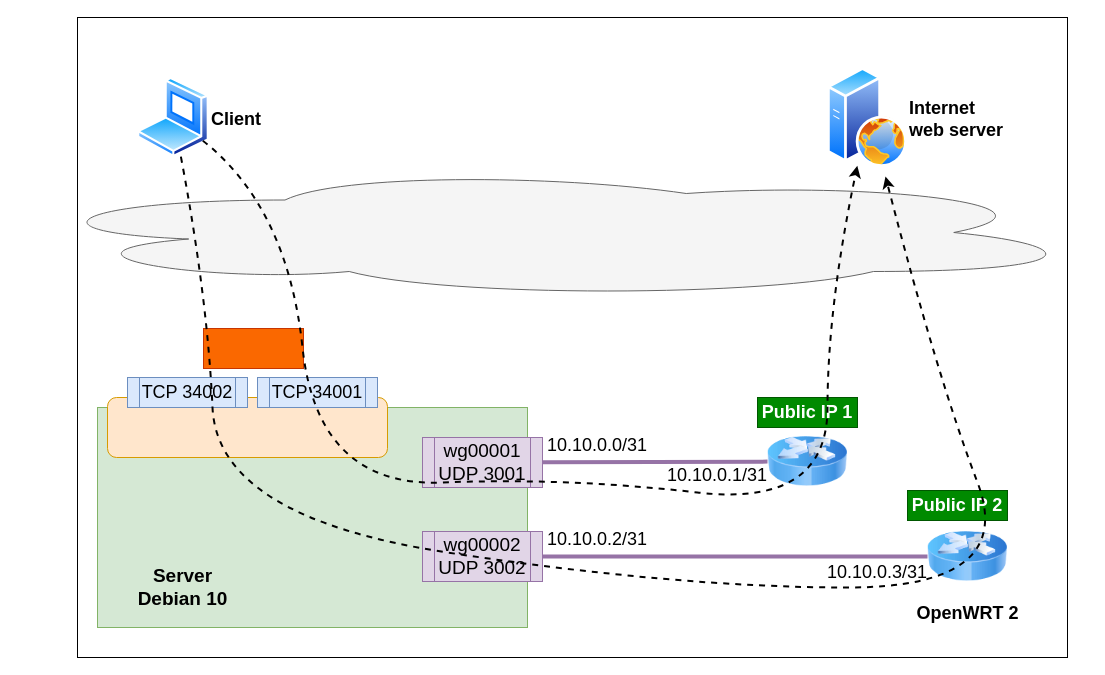
The diagram is 1105 pixels wide and 675 high, and some of its shapes have lost their labels. Each missing label, with the box of its shape:
3proxy: (106, 396, 388, 458)
Internet: (16, 166, 1088, 298)
OpenWRT 1: (767, 421, 847, 501)
Public IP Server: (202, 328, 304, 368)
